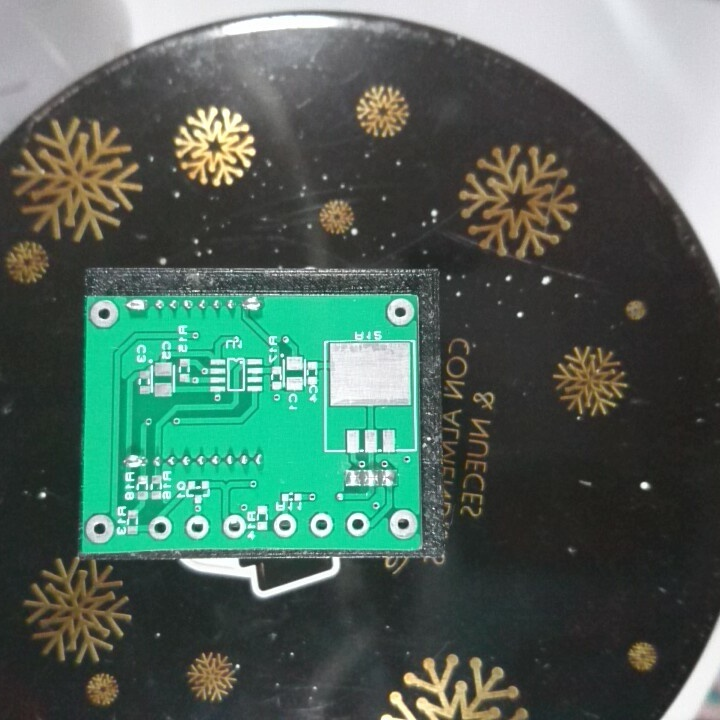F: (83, 512, 117, 545), (387, 507, 419, 540), (88, 298, 119, 332), (384, 298, 414, 326), (182, 512, 211, 539), (308, 510, 335, 538), (345, 509, 371, 538), (271, 512, 298, 539), (221, 513, 247, 541), (147, 514, 174, 540)
P: (121, 452, 150, 470), (239, 295, 264, 315), (123, 296, 150, 314)
